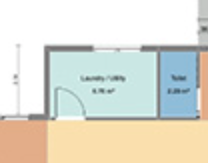double door: (53, 84, 89, 125)
window: (88, 39, 145, 60), (1, 111, 32, 125)
